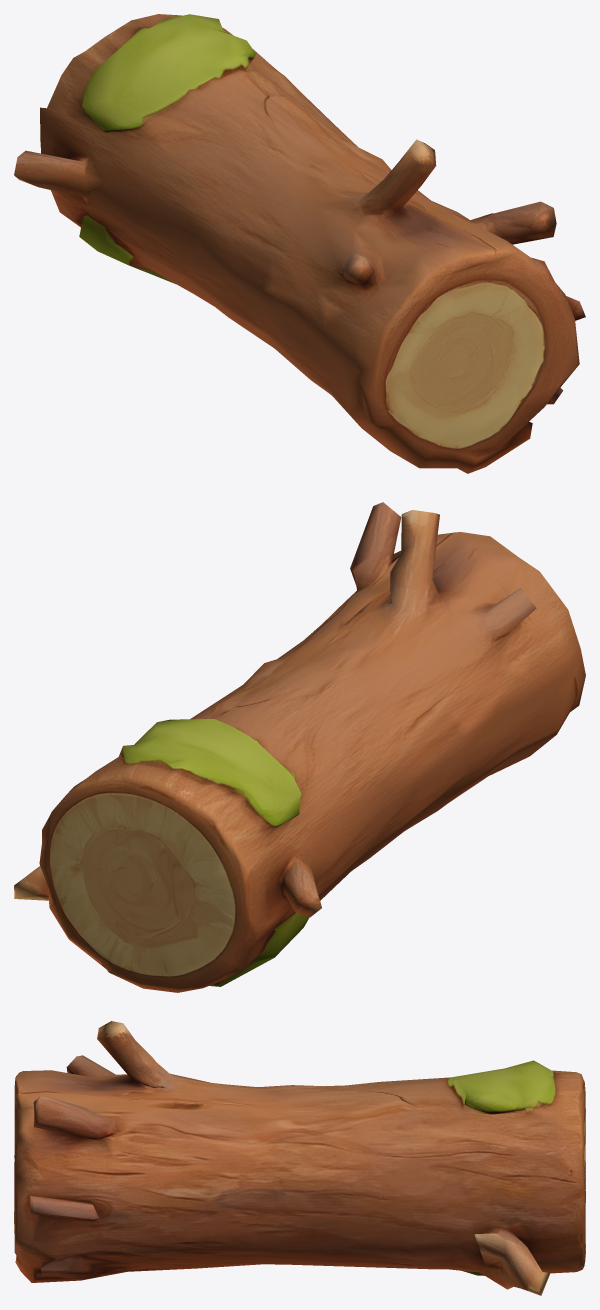
Rendered from prop-log.glb.
The picture shows the model from 3 angles, top to bottom: view 1: azimuth 30°, elevation 25°; view 2: azimuth 150°, elevation 25°; view 3: azimuth 270°, elevation 25°; orthographic projection. The views are drawn at different scales.
Visible parts, largest first — view 1: tripo_node_24313801-dce3-4ab1-b1b2-e4e63bbb854b; view 2: tripo_node_24313801-dce3-4ab1-b1b2-e4e63bbb854b; view 3: tripo_node_24313801-dce3-4ab1-b1b2-e4e63bbb854b.
Part boxes in pixels (box(x1,y1,x2,y2)): tripo_node_24313801-dce3-4ab1-b1b2-e4e63bbb854b: box(14, 14, 585, 473); tripo_node_24313801-dce3-4ab1-b1b2-e4e63bbb854b: box(14, 502, 585, 992); tripo_node_24313801-dce3-4ab1-b1b2-e4e63bbb854b: box(14, 1021, 585, 1295).
Bounding box in the file's own units: 0.5262 × 0.4784 × 0.9803.
1 material, 1 textured.
